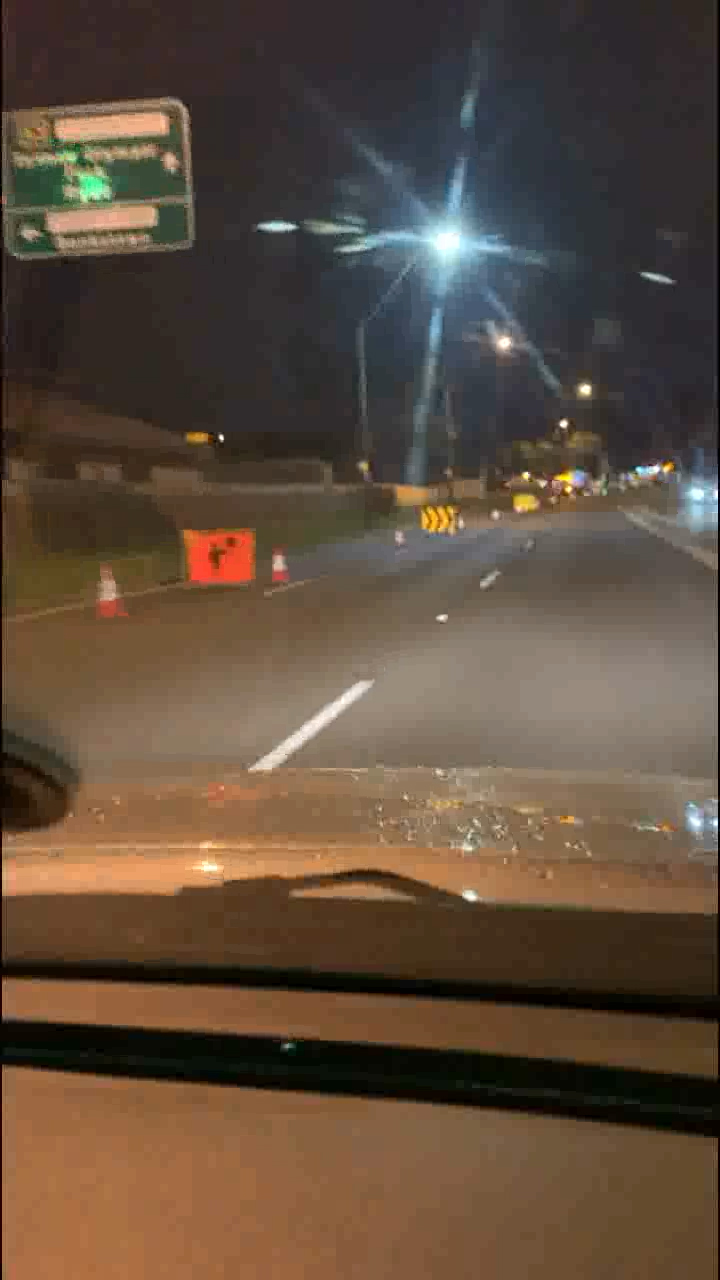road cone: (87, 567, 135, 621), (425, 509, 456, 534), (266, 548, 287, 579)
road works sign board: (183, 536, 254, 586)
